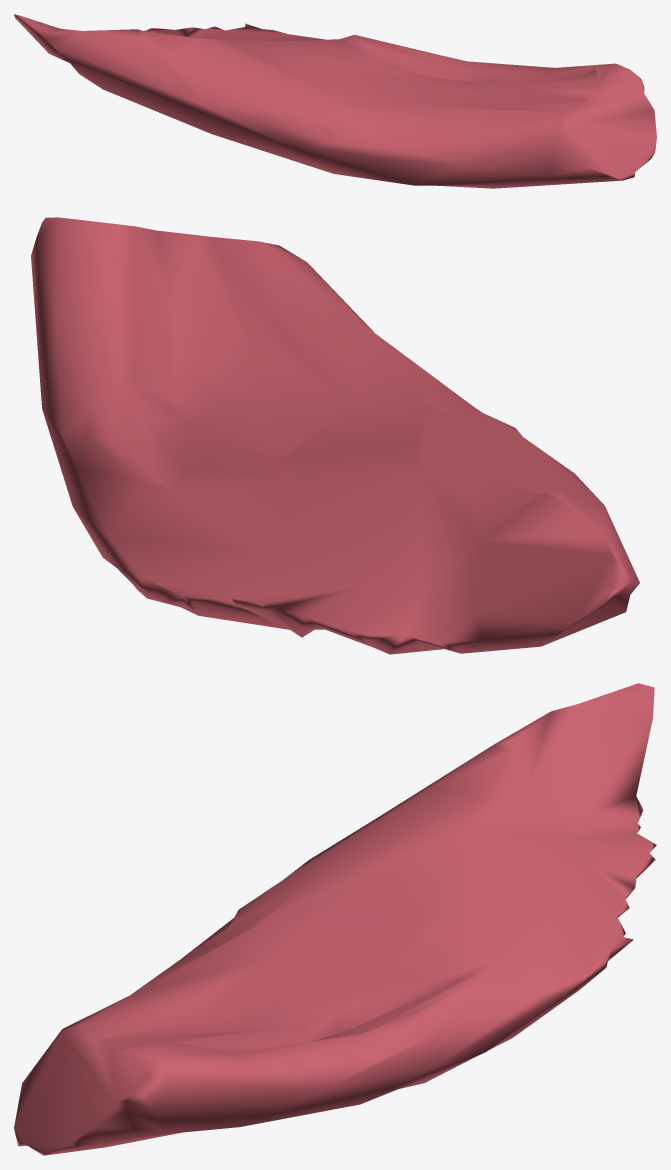
3 renders of one model, top to bottom at view 1: azimuth 30°, elevation 25°; view 2: azimuth 150°, elevation 25°; view 3: azimuth 270°, elevation 25°, orthographic. The views are drawn at different scales.
Parts seen in each view (by area): view 1: 右侧头前直肌; view 2: 右侧头前直肌; view 3: 右侧头前直肌.
Part boxes in pixels (x1=…): 右侧头前直肌: x1=14, y1=14, x2=656, y2=188; 右侧头前直肌: x1=31, y1=217, x2=639, y2=654; 右侧头前直肌: x1=14, y1=683, x2=656, y2=1155.
Size of the model in its own units: 0.0368 by 0.00986 by 0.03.
